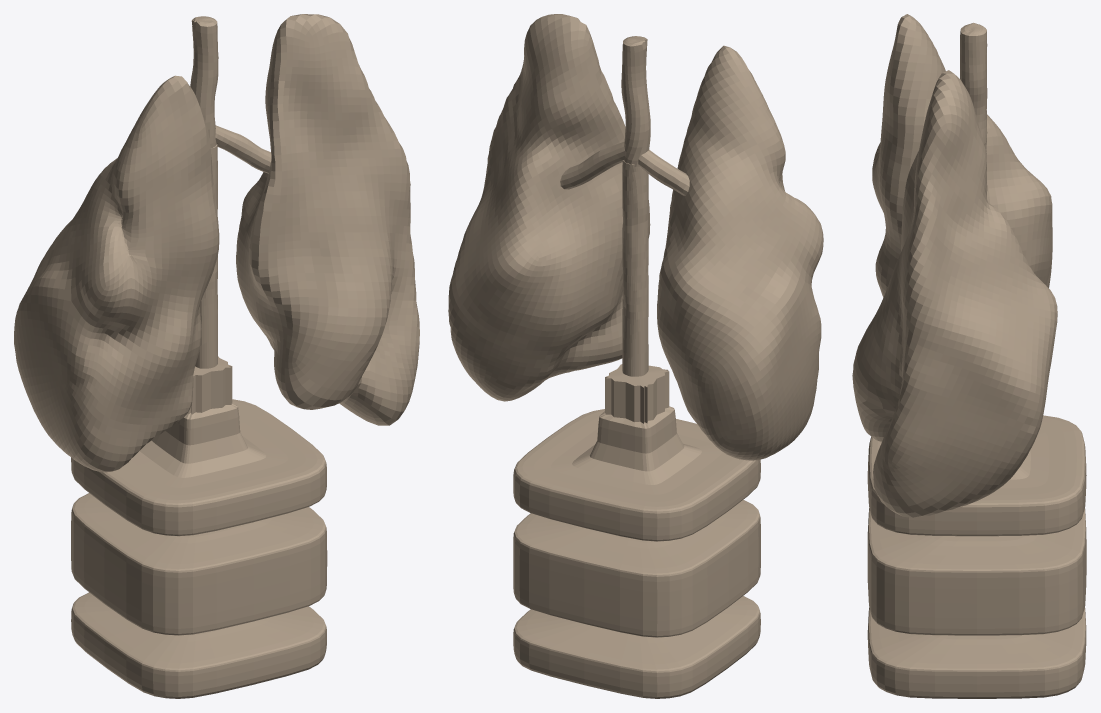
Rendered from T_PULMONES.fbx.
3 views of the same model, side by side, from view 1: azimuth 30°, elevation 25°; view 2: azimuth 150°, elevation 25°; view 3: azimuth 270°, elevation 25° (orthographic). The views are drawn at different scales.
Parts seen in each view (by area): view 1: TokenPulmon; view 2: TokenPulmon; view 3: TokenPulmon.
Boxes of the visible parts, left/top/right/bottom form: TokenPulmon: left=14, top=14, right=419, bottom=698; TokenPulmon: left=448, top=14, right=823, bottom=698; TokenPulmon: left=852, top=14, right=1086, bottom=698.
Bounding box in the file's own units: 90.69 × 159 × 53.34.
